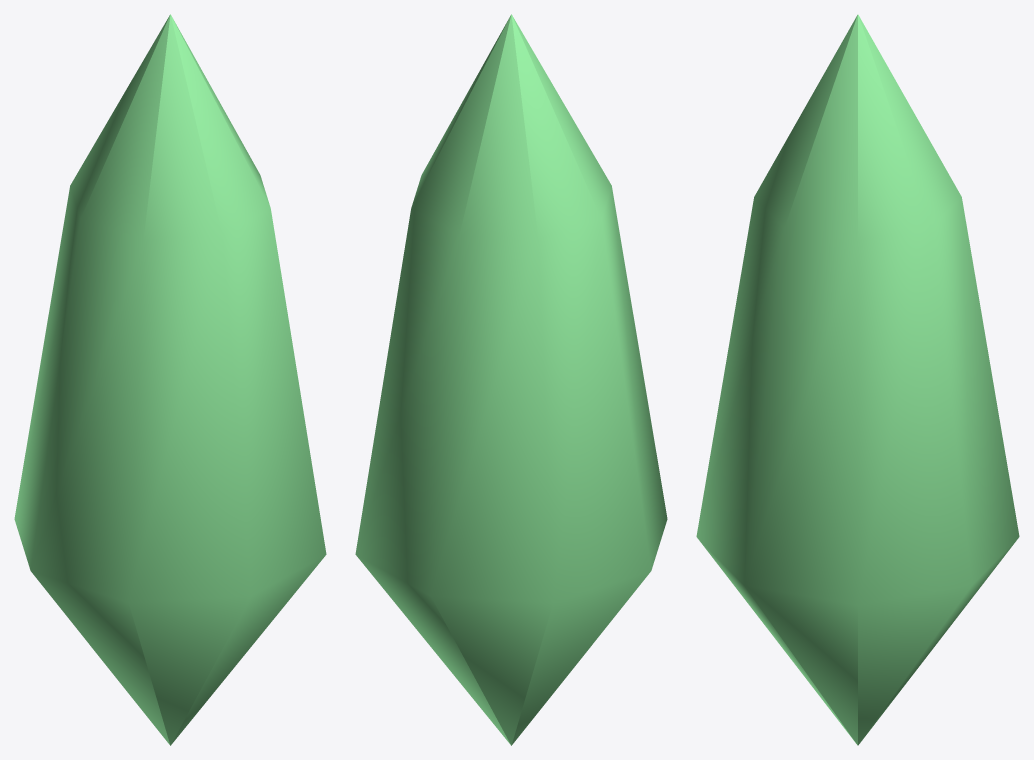
3 views of the same model, side by side, from view 1: azimuth 30°, elevation 25°; view 2: azimuth 150°, elevation 25°; view 3: azimuth 270°, elevation 25° (orthographic).
Bounding box in the file's own units: 0.56 × 1.4 × 0.56.
